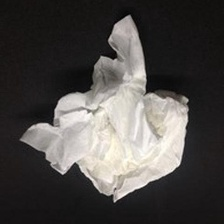tissue: (13, 9, 198, 209)
